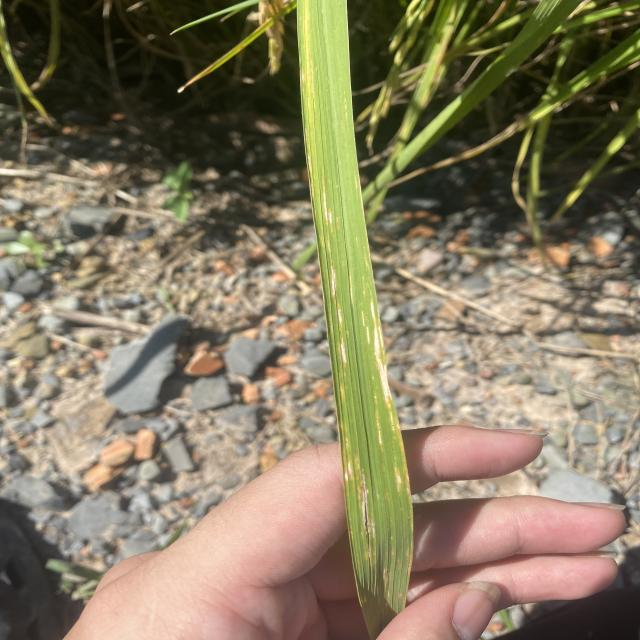Dom soc vi khuan: (369, 301, 392, 407), (345, 437, 353, 478), (376, 409, 383, 451), (341, 337, 346, 366), (337, 302, 342, 330), (332, 263, 336, 296), (349, 275, 353, 303)
